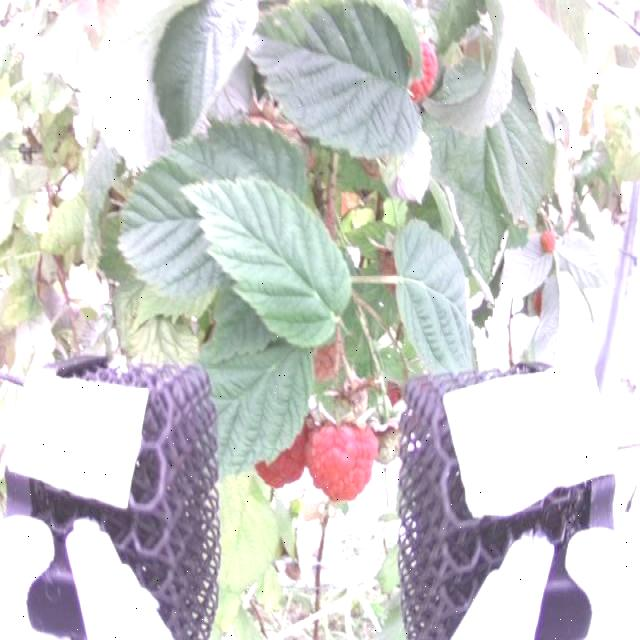Riped berries: (309, 414, 391, 504), (256, 398, 310, 494), (400, 27, 446, 105)
